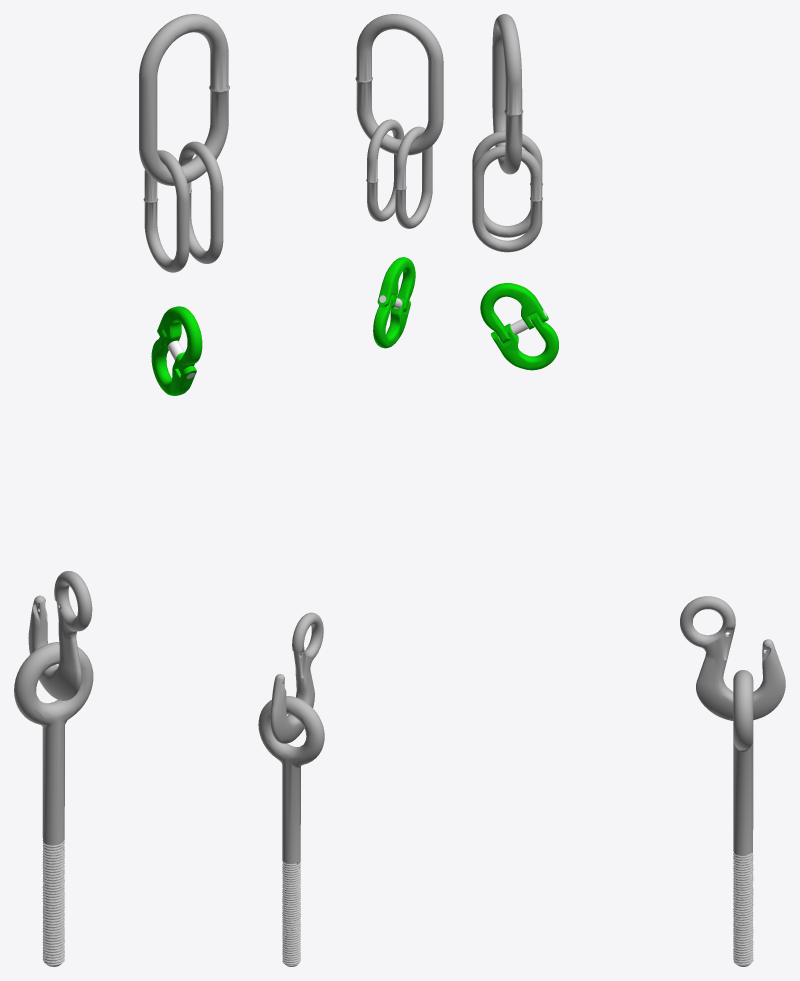
File: fourleg.glb
3 views of the same model, side by side, from view 1: azimuth 30°, elevation 25°; view 2: azimuth 150°, elevation 25°; view 3: azimuth 270°, elevation 25° (orthographic). The views are drawn at different scales.
Parts seen in each view (by area): view 1: EyeMesh, OblongMesh, SmallOblongMesh (×2), HookMesh, LInkMesh; view 2: EyeMesh, OblongMesh, SmallOblongMesh (×2), HookMesh, LInkMesh; view 3: EyeMesh, HookMesh, SmallOblongMesh (×2), OblongMesh, LInkMesh.
Boxes of the visible parts, box(x1,y1,x2,y2) form: EyeMesh: box(14, 642, 93, 966); OblongMesh: box(139, 14, 229, 185); SmallOblongMesh (×2): box(143, 141, 223, 272); HookMesh: box(28, 571, 92, 700); LInkMesh: box(151, 306, 202, 395); EyeMesh: box(258, 696, 324, 966); OblongMesh: box(355, 14, 443, 155); SmallOblongMesh (×2): box(366, 119, 432, 228); HookMesh: box(270, 612, 323, 743); LInkMesh: box(373, 257, 415, 348); EyeMesh: box(733, 670, 753, 966); HookMesh: box(680, 596, 785, 720); SmallOblongMesh (×2): box(472, 130, 542, 252); OblongMesh: box(492, 14, 523, 174); LInkMesh: box(480, 283, 558, 370).
Size of what is drawn, in the model's own units: 0.0952 by 0.992 by 0.298.
6 materials, 1 textured.
